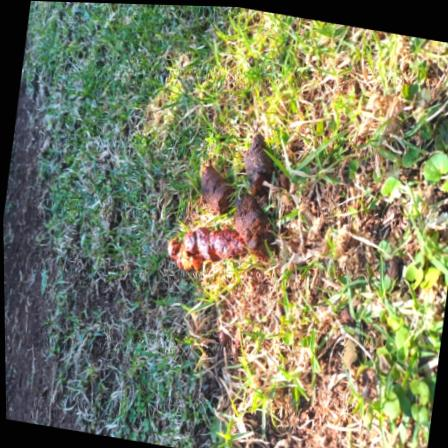dog-poop: (155, 120, 284, 280)
